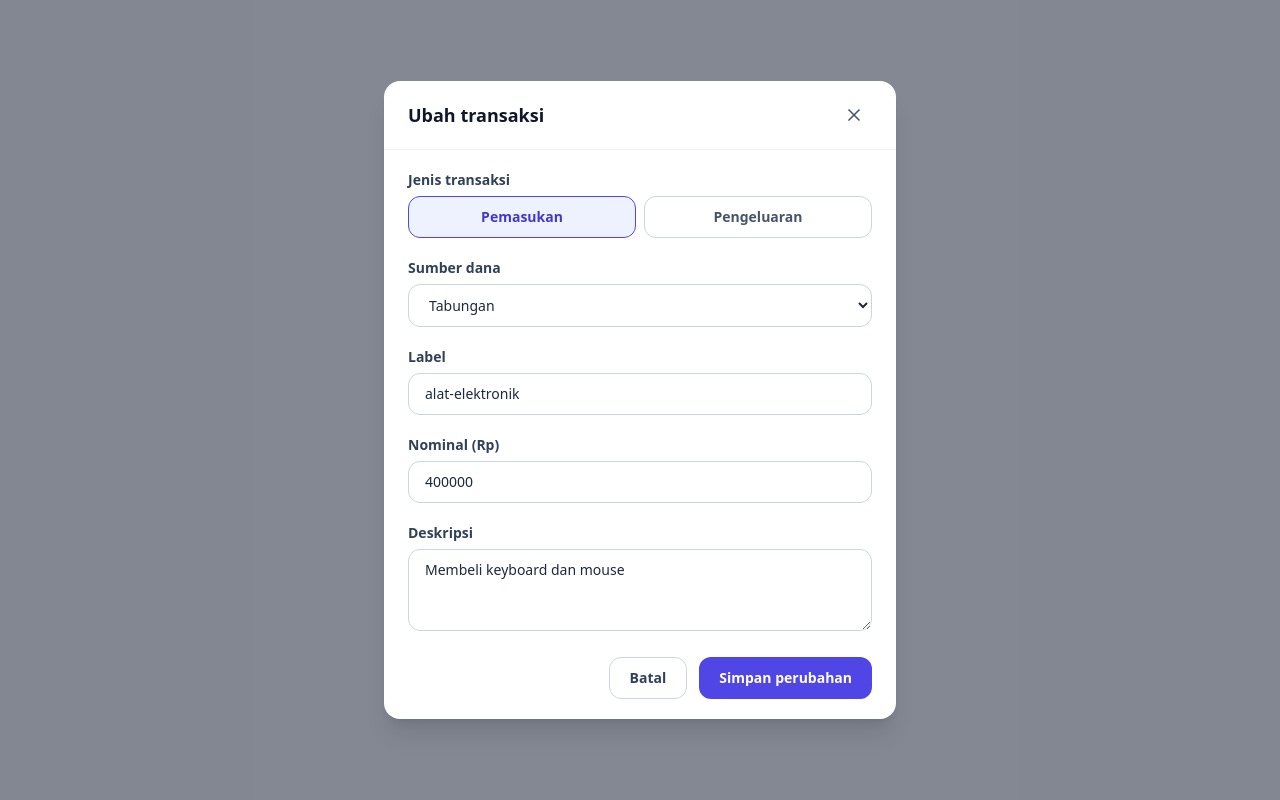
Scenario: CashFlowFormModal › membuka ulang modal › mengosongkan form dan pesan error saat dibuka untuk transaksi baru
Clear the field with id "cashflow-label" at (640, 394), box [408,373,872,415]
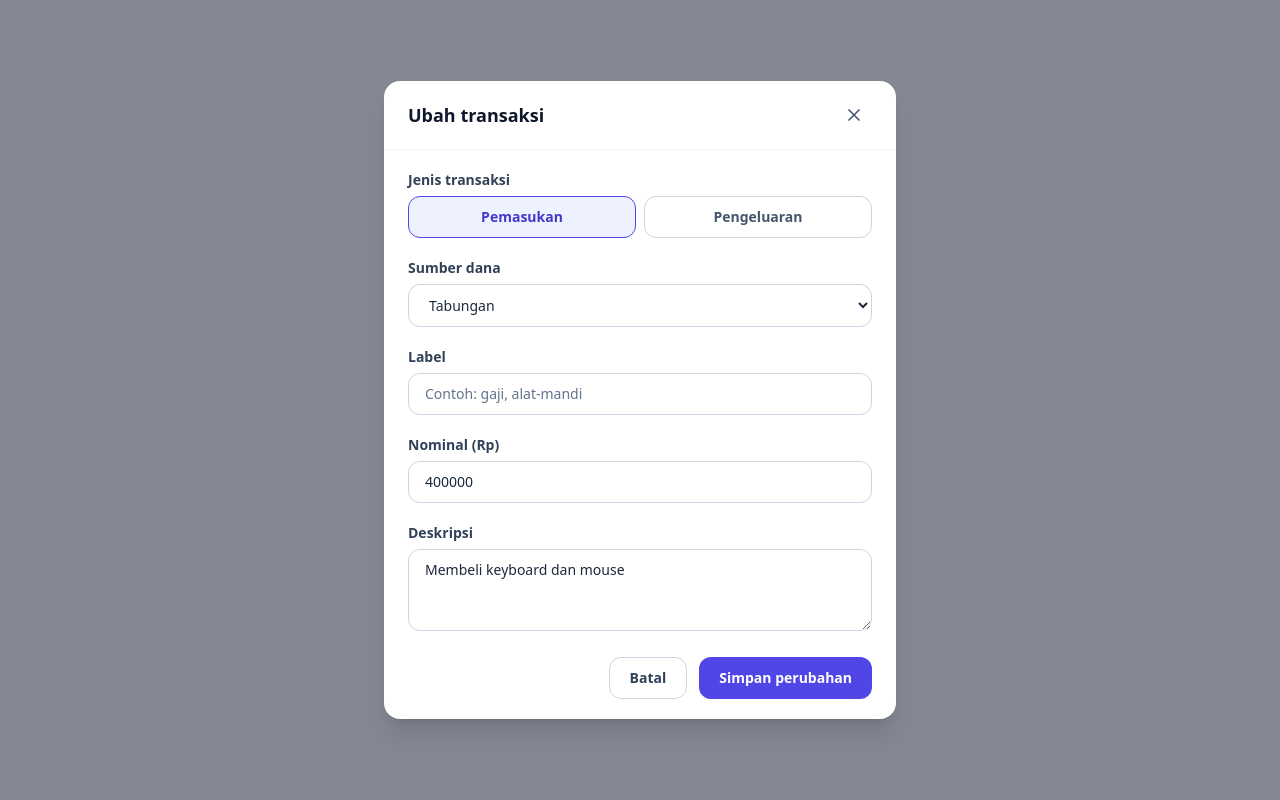
Submit the form, box [408,170,872,699]
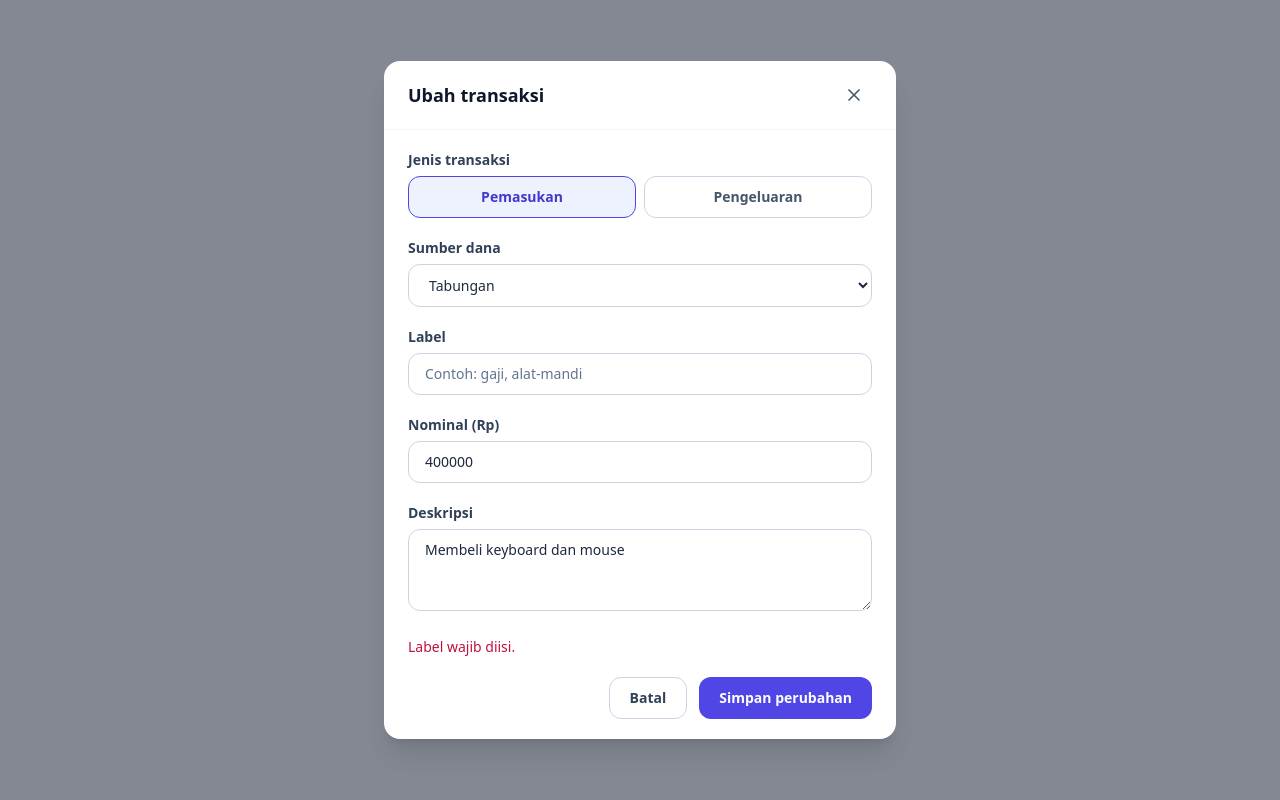
Now the message "Label wajib diisi." is shown, box [408,637,515,656]
